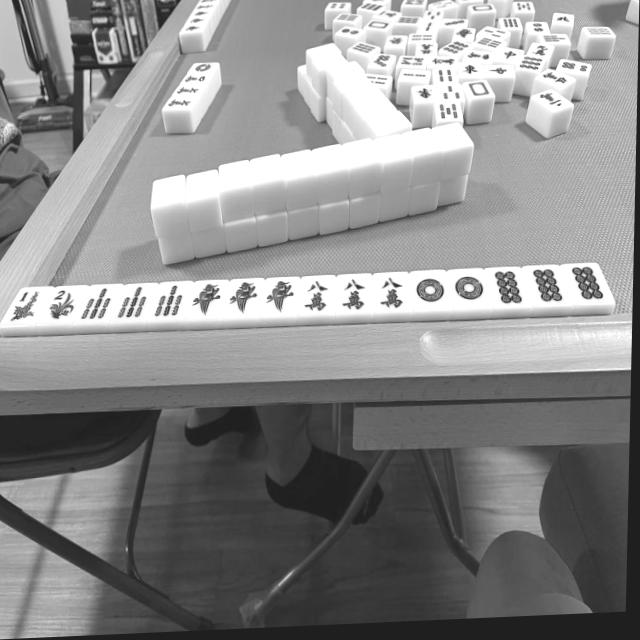f1: (11, 286, 42, 328)
f2: (47, 285, 77, 328)
m8: (375, 273, 407, 317), (301, 278, 332, 318), (339, 274, 367, 316)
s1: (265, 277, 297, 323), (227, 279, 260, 321), (192, 281, 223, 322)
s7: (116, 283, 150, 324), (153, 282, 186, 323), (81, 284, 113, 324)
t1: (451, 268, 487, 311), (412, 270, 447, 314)
t8: (489, 267, 525, 310), (529, 264, 565, 307), (571, 263, 605, 304)
